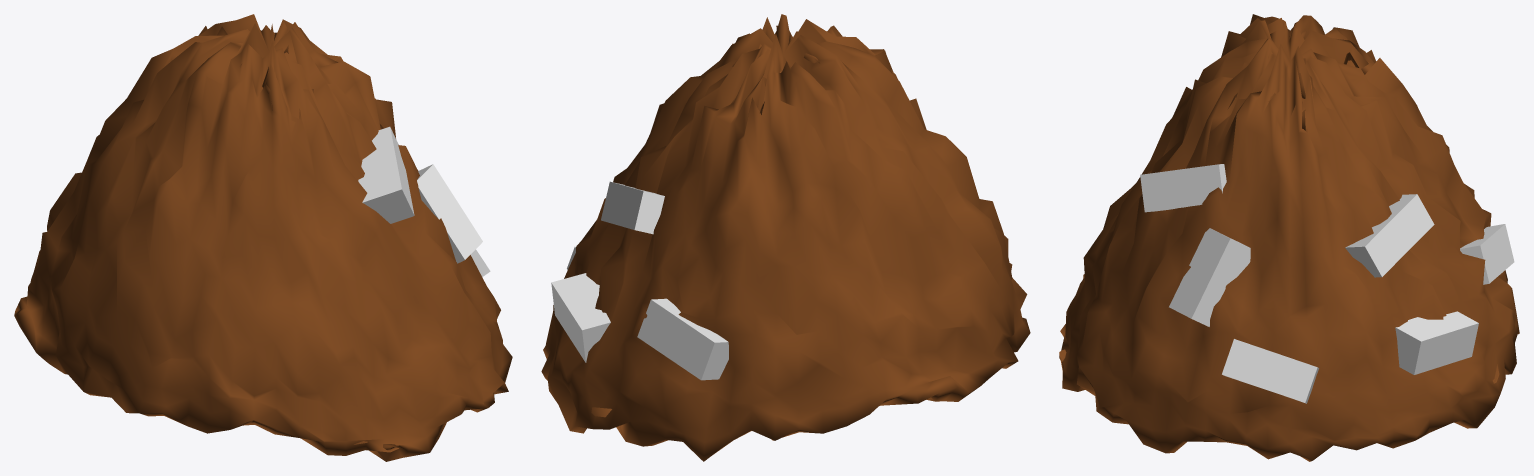
The model's file is Rubble.fbx.
3 renders of one model, left to right at view 1: azimuth 30°, elevation 25°; view 2: azimuth 150°, elevation 25°; view 3: azimuth 270°, elevation 25°, orthographic. The views are drawn at different scales.
Parts seen in each view (by area): view 1: Sphere, Cube.002, Cube.003; view 2: Sphere, Cube.004, Cube.005, Cube; view 3: Sphere, Cube.003, Cube.005, Cube, Cube.001, Cube.002, Cube.004.
Boxes of the visible parts, left/top/right/bottom form: Sphere: left=14, top=14, right=512, bottom=461; Cube.002: left=358, top=126, right=414, bottom=223; Cube.003: left=417, top=164, right=482, bottom=263; Sphere: left=541, top=14, right=1030, bottom=461; Cube.004: left=637, top=298, right=728, bottom=380; Cube.005: left=551, top=273, right=610, bottom=362; Cube: left=601, top=181, right=664, bottom=234; Sphere: left=1059, top=14, right=1519, bottom=461; Cube.003: left=1169, top=228, right=1250, bottom=326; Cube.005: left=1395, top=311, right=1478, bottom=374; Cube: left=1345, top=194, right=1434, bottom=277; Cube.001: left=1222, top=339, right=1318, bottom=403; Cube.002: left=1140, top=164, right=1226, bottom=212; Cube.004: left=1460, top=224, right=1514, bottom=284.
Bounding box in the file's own units: 612 × 512 × 605.
